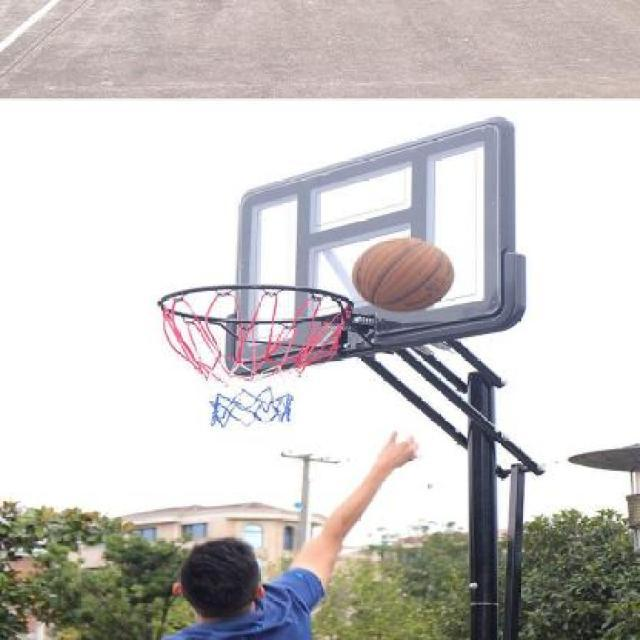basketball: (354, 236, 452, 312)
rim: (158, 282, 354, 426)
